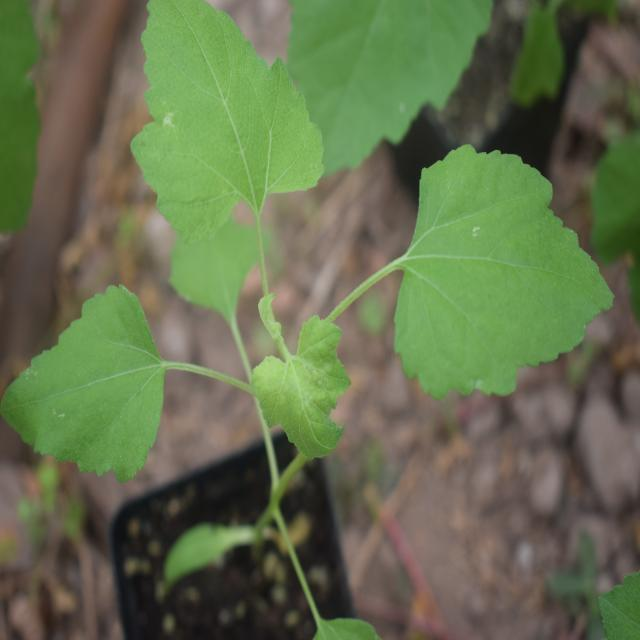cocklebur: (0, 14, 604, 465)
